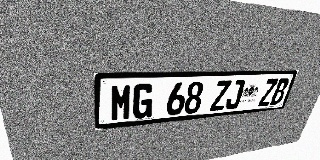6: (165, 82, 188, 116)
8: (183, 81, 205, 114)
B: (269, 78, 290, 105)
G: (132, 83, 154, 119)
J: (224, 80, 246, 110)
M: (110, 84, 133, 121)
Z: (210, 80, 232, 111), (258, 78, 279, 106)
